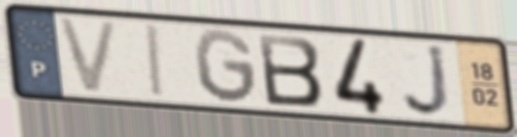4: (332, 35, 391, 117)
B: (254, 31, 326, 109)
G: (191, 26, 261, 107)
I: (145, 22, 168, 101)
J: (401, 43, 455, 120)
V: (53, 14, 124, 97)
